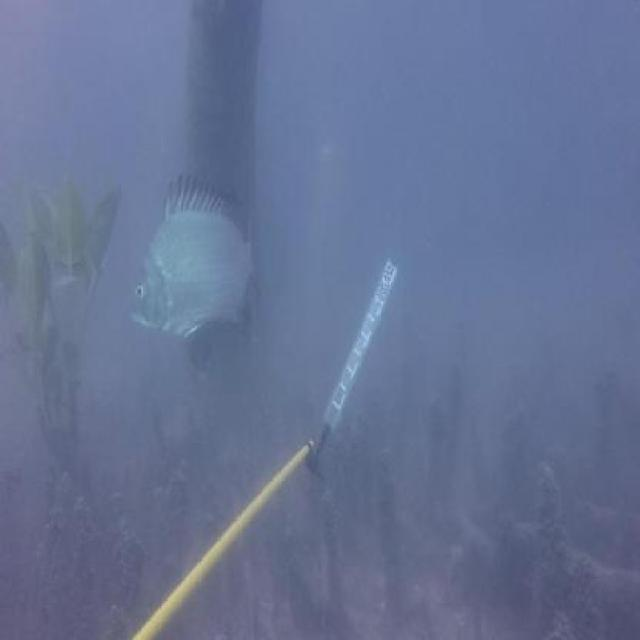acanthopagrus_palmaris: (122, 142, 270, 360)
